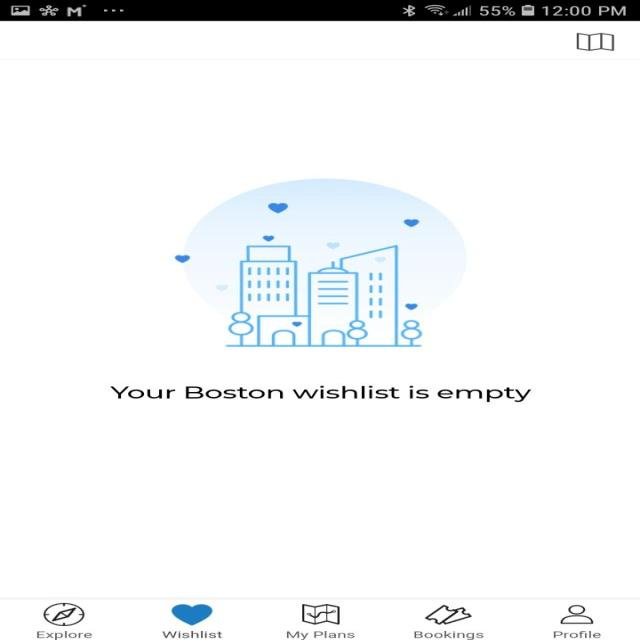Icon: (42, 602, 84, 626), (424, 604, 471, 624), (170, 603, 212, 625), (575, 32, 614, 51), (302, 604, 339, 624), (560, 604, 593, 624)
Image: (173, 178, 464, 347)
Text: (109, 385, 531, 402), (285, 630, 355, 639), (412, 630, 482, 639), (36, 630, 92, 639), (162, 630, 222, 638), (553, 630, 601, 638)
